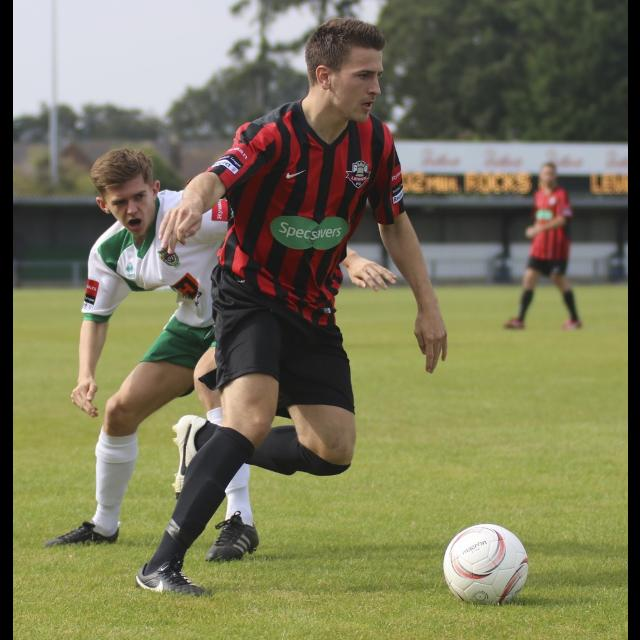Football: (441, 522, 529, 604)
